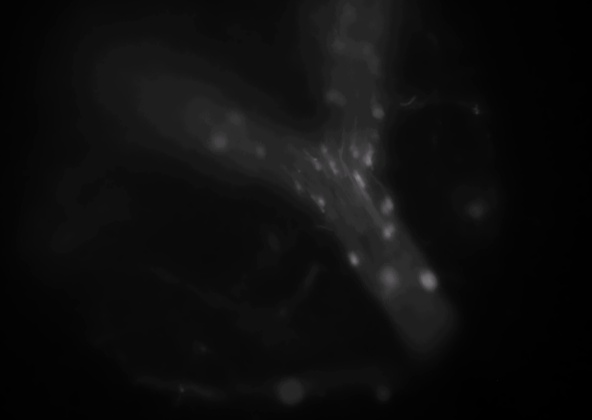cell: (422, 274, 436, 288), (370, 105, 384, 119), (349, 149, 363, 163), (364, 155, 378, 169), (316, 143, 330, 157), (310, 161, 324, 175), (327, 157, 341, 171), (325, 89, 339, 103), (350, 169, 364, 183), (333, 94, 347, 108), (355, 178, 369, 192), (347, 254, 361, 268), (382, 271, 396, 285), (381, 229, 395, 243), (383, 198, 397, 212), (385, 219, 399, 233), (379, 202, 393, 216), (314, 194, 328, 208), (293, 182, 307, 196), (255, 147, 269, 161), (209, 138, 223, 152), (360, 44, 374, 58), (367, 53, 381, 67), (331, 40, 345, 54), (369, 128, 383, 142), (363, 147, 377, 161)
